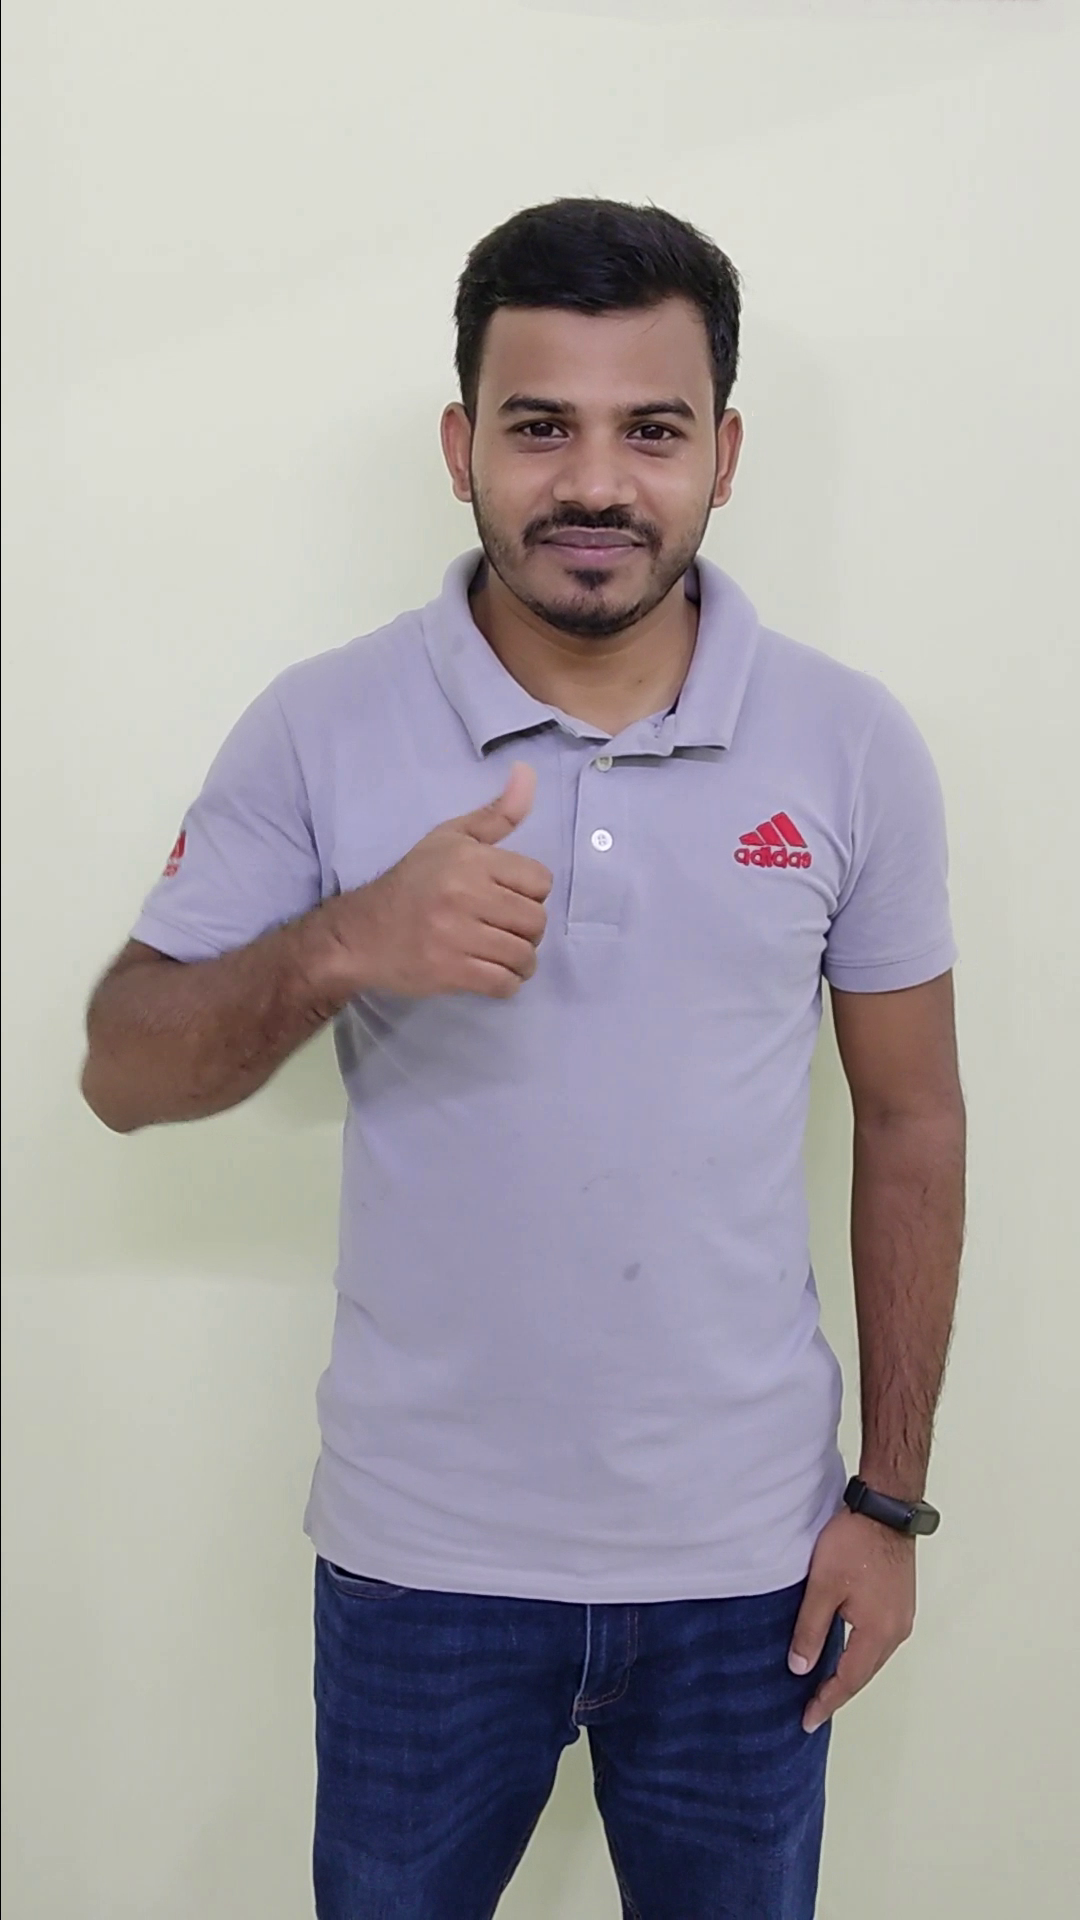Like: (344, 742, 566, 1023)
None: (773, 1455, 963, 1747)
